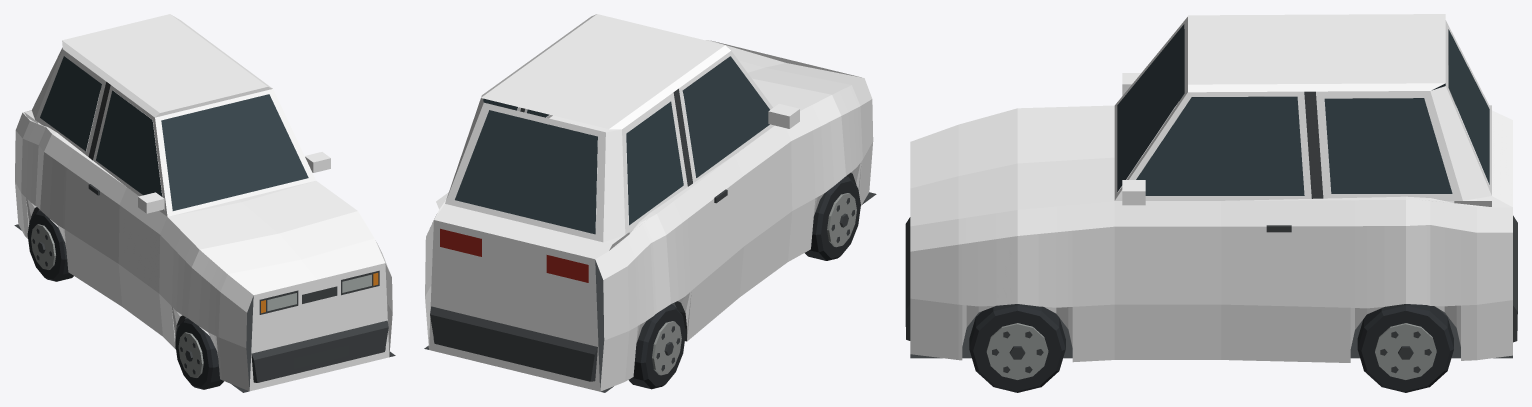
File: dunmere_merlin_s.glb
3 renders of one model, left to right at view 1: azimuth 30°, elevation 25°; view 2: azimuth 150°, elevation 25°; view 3: azimuth 270°, elevation 25°, orthographic. The views are drawn at different scales.
Parts seen in each view (by area): view 1: dunmere_merlin_s; view 2: dunmere_merlin_s; view 3: dunmere_merlin_s.
Part boxes in pixels (x1,y1,x2,y2): dunmere_merlin_s: [14, 14, 395, 392]; dunmere_merlin_s: [424, 14, 876, 392]; dunmere_merlin_s: [905, 14, 1517, 392].
Bounding box in the file's own units: 1.45 × 1.66 × 3.17.
Materials: 8 (1 with a texture image).
